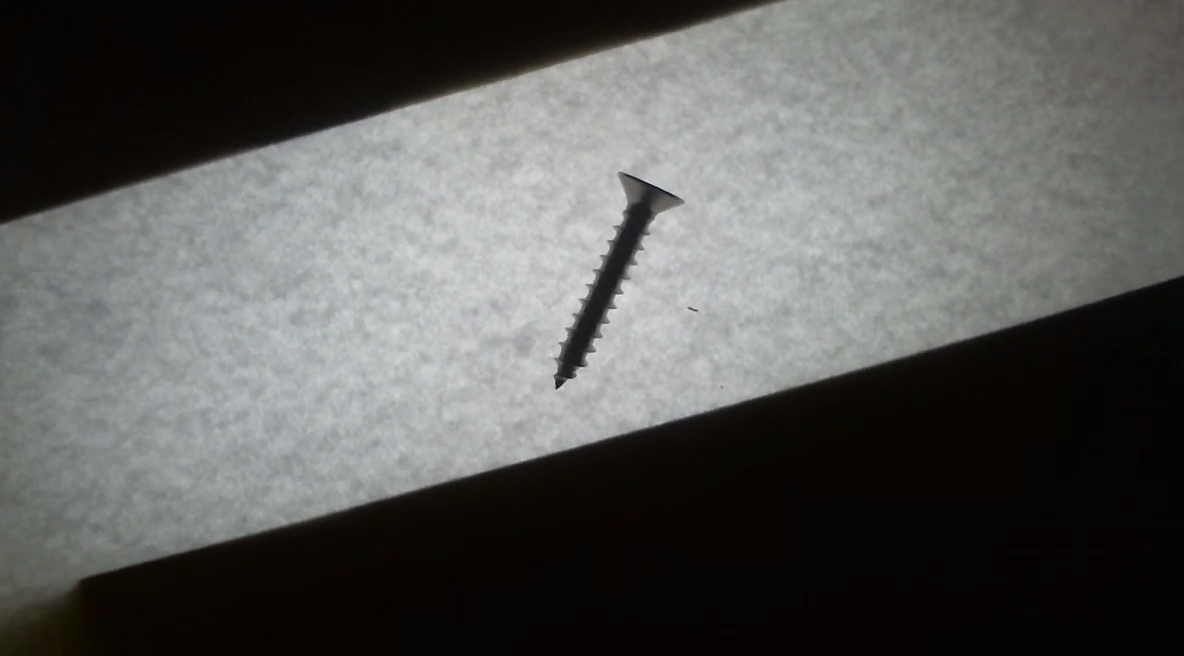S001: (524, 159, 697, 399)
